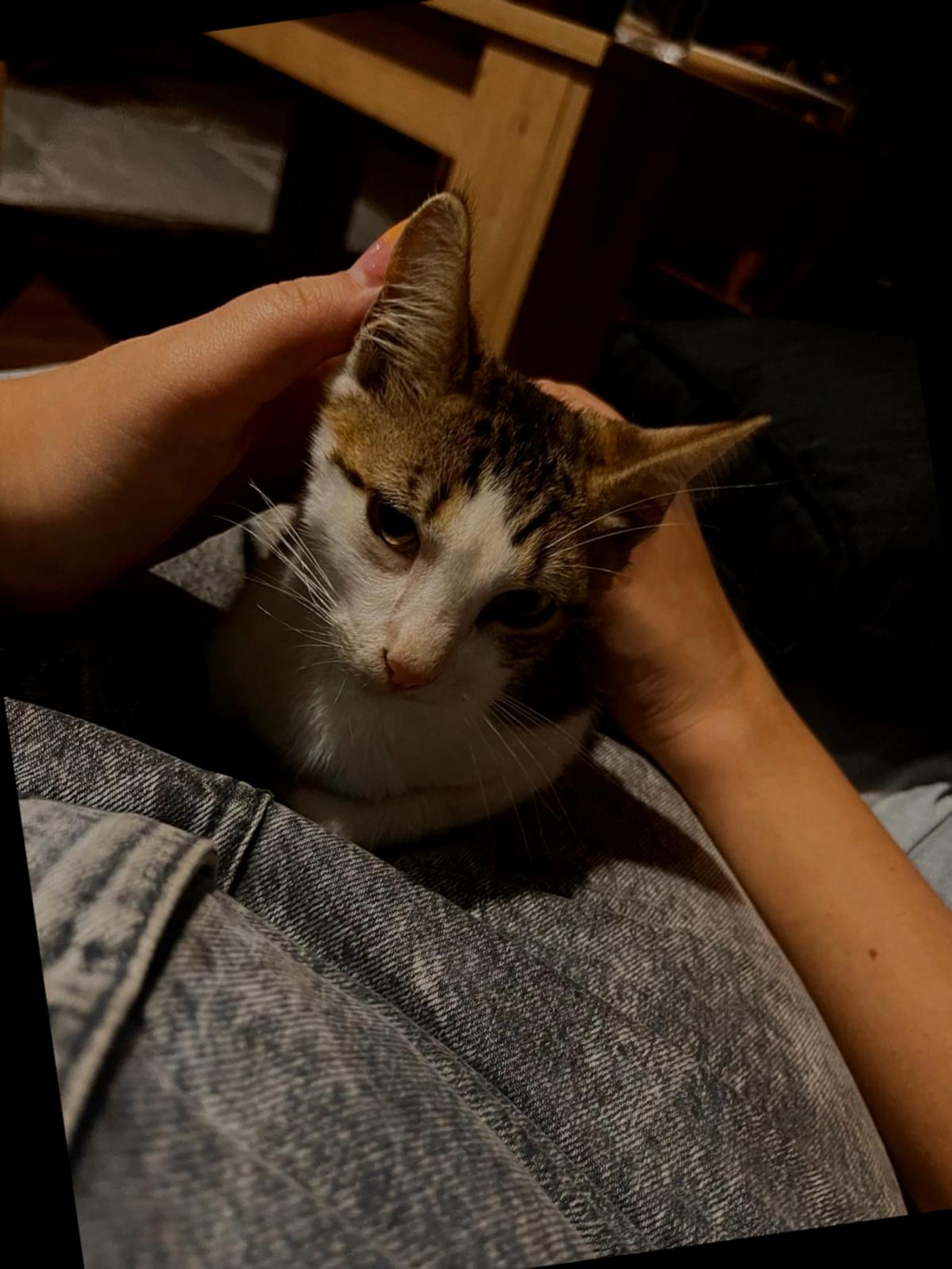macka: (158, 146, 825, 865)
